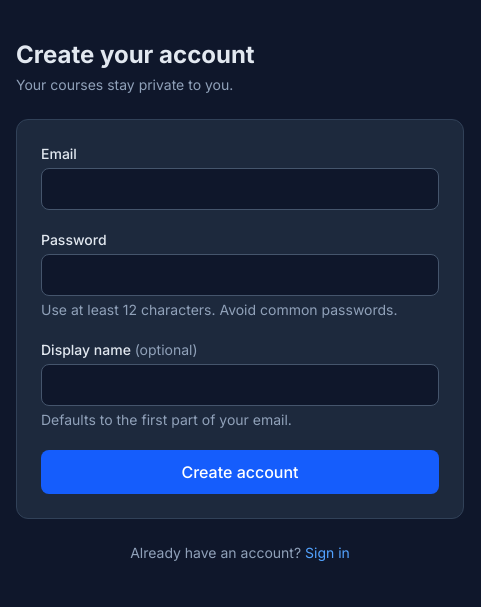
Register page › disables submit while in flight so a double click cannot register twice
In the field labelled "Email": (240, 189) [41,168,439,210], type "ada@example.com"
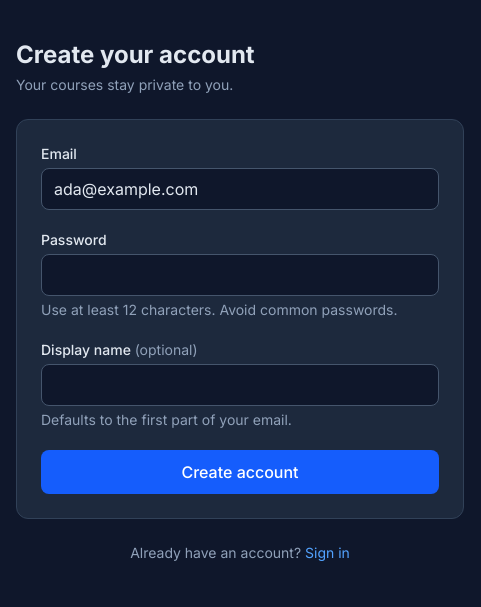
In the password field labelled "Password": (240, 275) [41,254,439,296], type "correct horse battery"
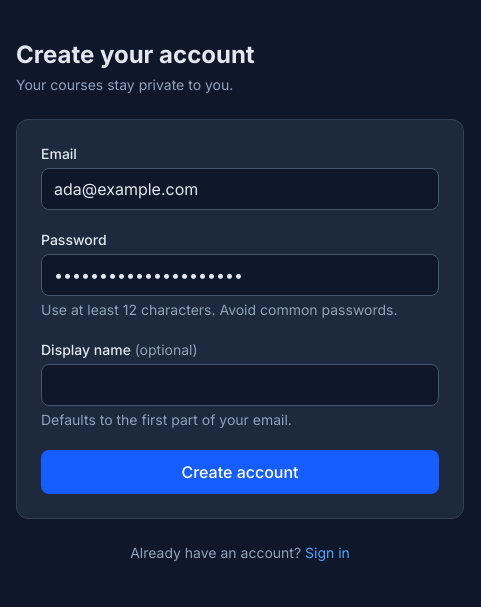
Click the button "Create account": (240, 472) [41,450,439,494]
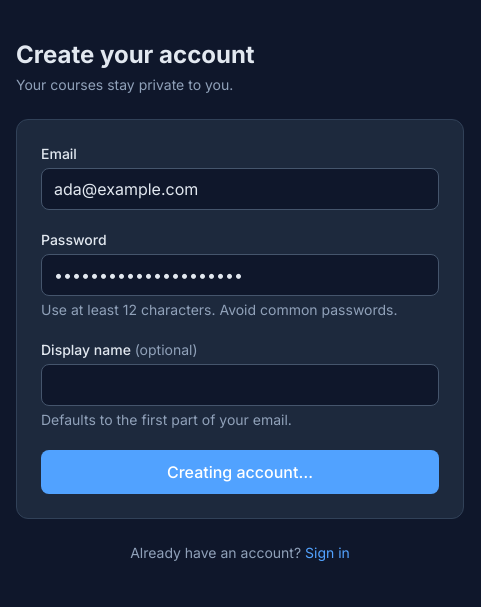
Check: the button "Creating account…" is disabled
Click the button "Creating account…": (240, 472) [41,450,439,494]
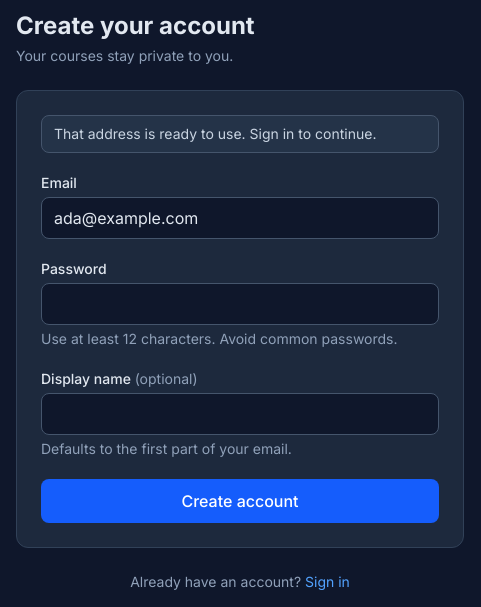
Check: the button "Create account" is enabled, box [41,479,439,523]
